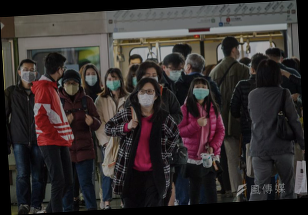with_mask: (137, 88, 157, 109), (21, 65, 39, 83), (193, 83, 211, 101), (167, 64, 185, 82), (62, 80, 81, 97), (105, 75, 122, 93), (141, 71, 159, 86), (84, 71, 99, 87), (131, 73, 140, 89)
